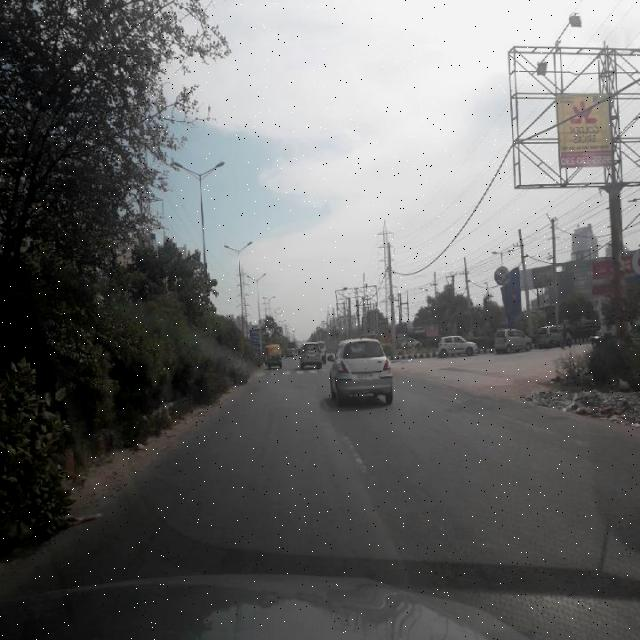D20: (94, 429, 620, 577)
D44: (486, 401, 614, 449), (336, 420, 372, 476)
